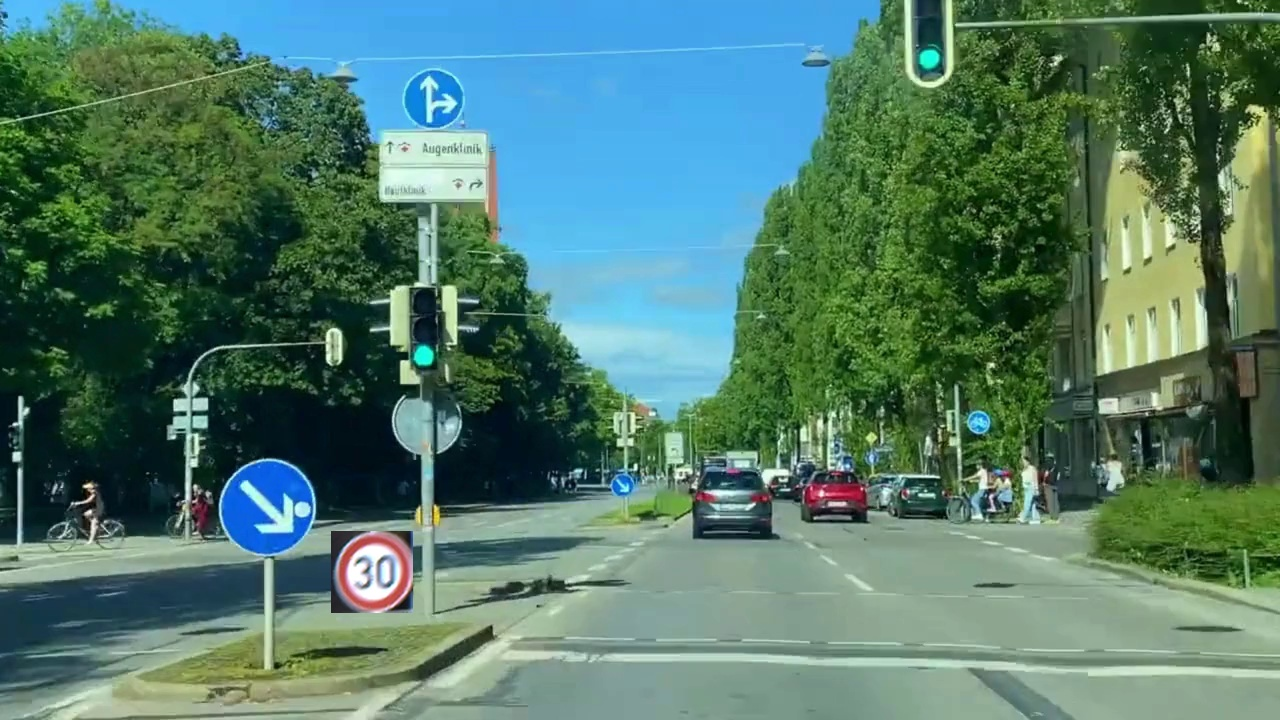Speed 30: (331, 531, 413, 613)
